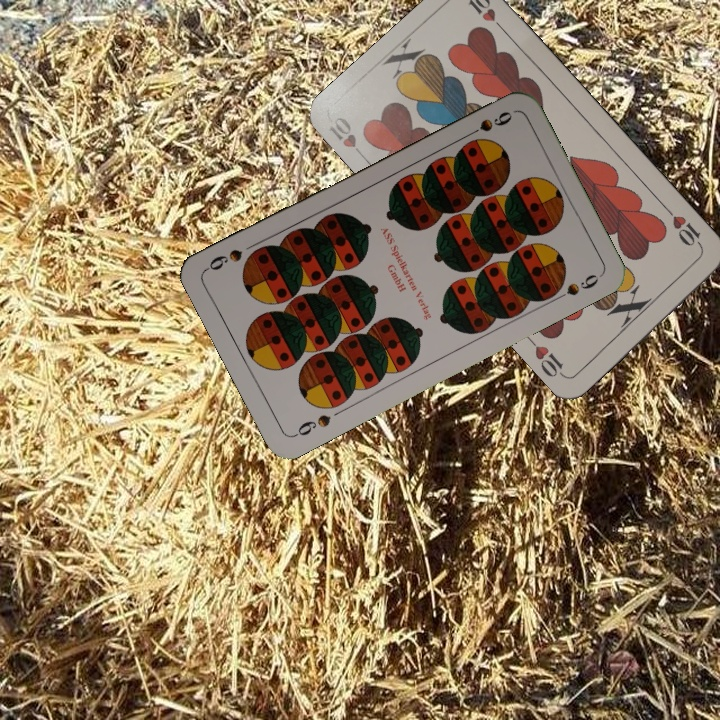H10: (325, 112, 370, 164), (661, 204, 706, 252)
S9: (460, 107, 515, 141), (289, 410, 334, 440)
